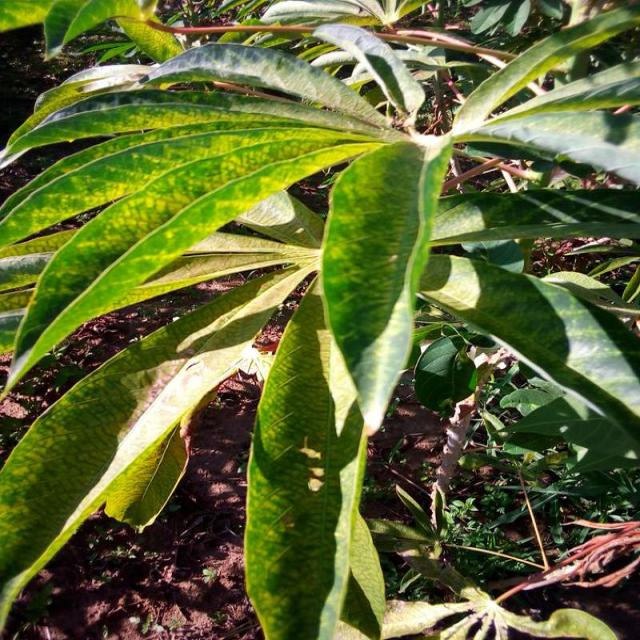cassava leaf: (2, 2, 639, 638), (244, 269, 387, 638), (320, 131, 454, 436)
